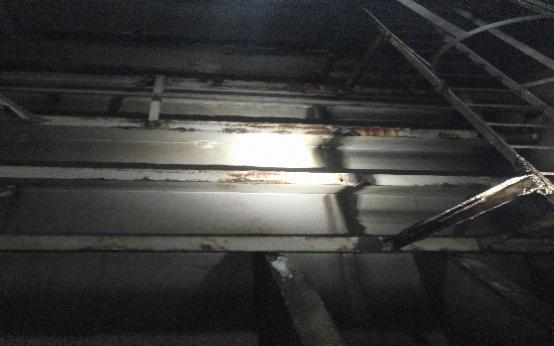corrosion: (217, 162, 282, 181), (261, 117, 310, 137), (354, 125, 419, 139), (221, 116, 254, 134)
